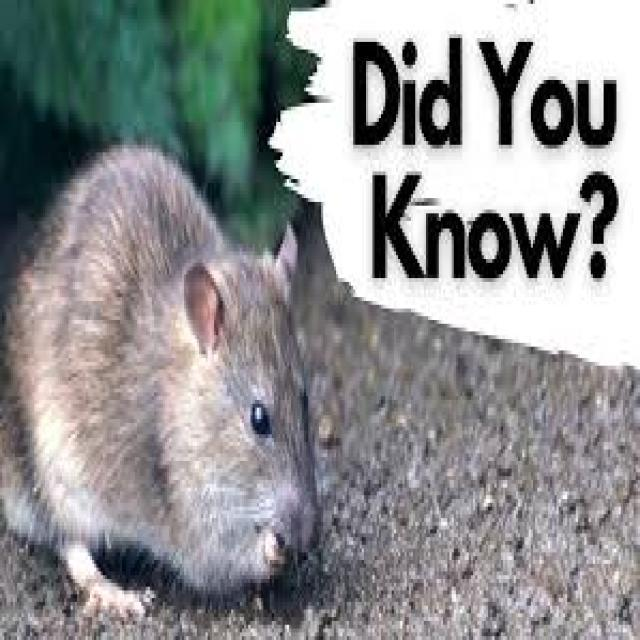Rat: (14, 104, 338, 612)
